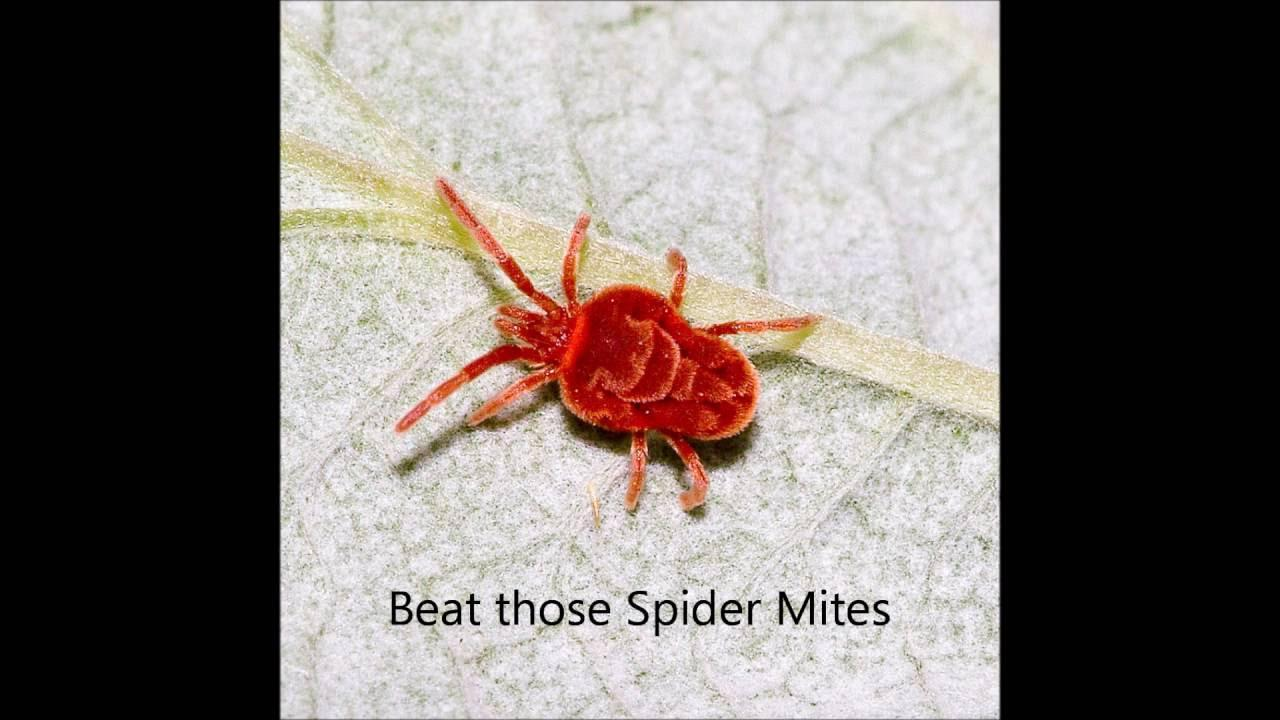tiny_pests: (361, 122, 885, 553)
